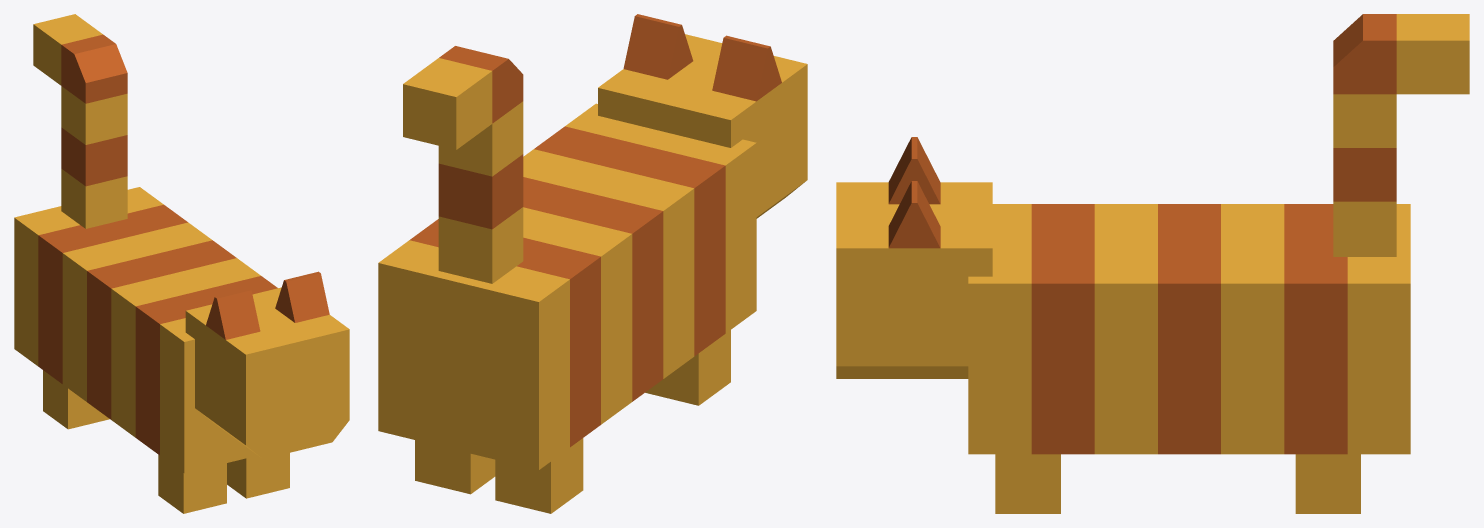
Rendered from cat_quick.fbx.
The picture shows the model from 3 angles, left to right: view 1: azimuth 30°, elevation 25°; view 2: azimuth 150°, elevation 25°; view 3: azimuth 270°, elevation 25°; orthographic projection. The views are drawn at different scales.
Visible parts, largest first — view 1: body_geo, head_geo, tail_geo, F_R_leg_geo, F_L_leg_geo, B_R_leg_geo; view 2: body_geo, head_geo, tail_geo, B_R_leg_geo, F_R_leg_geo, B_L_leg_geo; view 3: body_geo, head_geo, tail_geo, B_L_leg_geo, F_L_leg_geo.
Part boxes in pixels (x1,y1,x2,y2): body_geo: (14, 187, 277, 473); head_geo: (185, 271, 349, 459); tail_geo: (33, 14, 127, 228); F_R_leg_geo: (158, 455, 226, 513); F_L_leg_geo: (227, 453, 289, 498); B_R_leg_geo: (43, 370, 109, 429); body_geo: (378, 103, 756, 470); head_geo: (598, 14, 807, 218); tail_geo: (403, 46, 523, 283); B_R_leg_geo: (495, 438, 583, 513); F_R_leg_geo: (645, 330, 730, 405); B_L_leg_geo: (415, 440, 495, 494); body_geo: (968, 204, 1410, 454); head_geo: (836, 137, 992, 378); tail_geo: (1333, 14, 1469, 256); B_L_leg_geo: (1295, 454, 1360, 513); F_L_leg_geo: (995, 454, 1060, 513).
Size of the model in its own units: 65.39 by 173 by 220.
